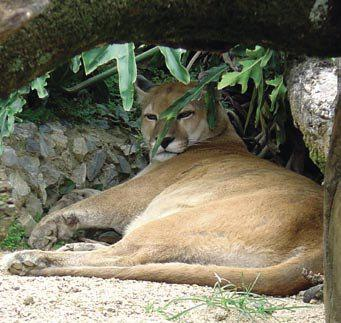OncaParda: (14, 77, 328, 297)
